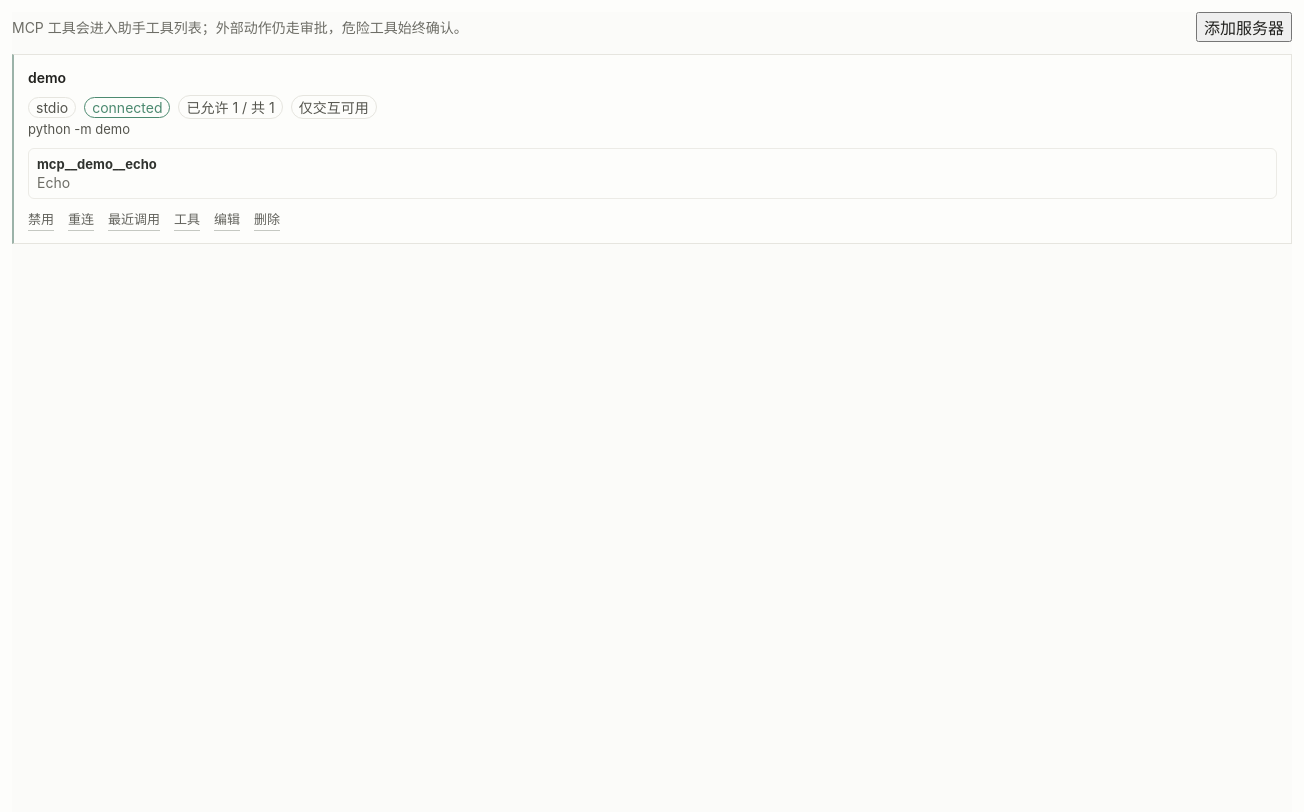
Test case: F1 编辑已有服务器：校验失败零请求 › stdio 缺 command：可见文案 + 不发请求
Click the button "编辑" at (227, 219), box left=214, top=207, right=240, bottom=231
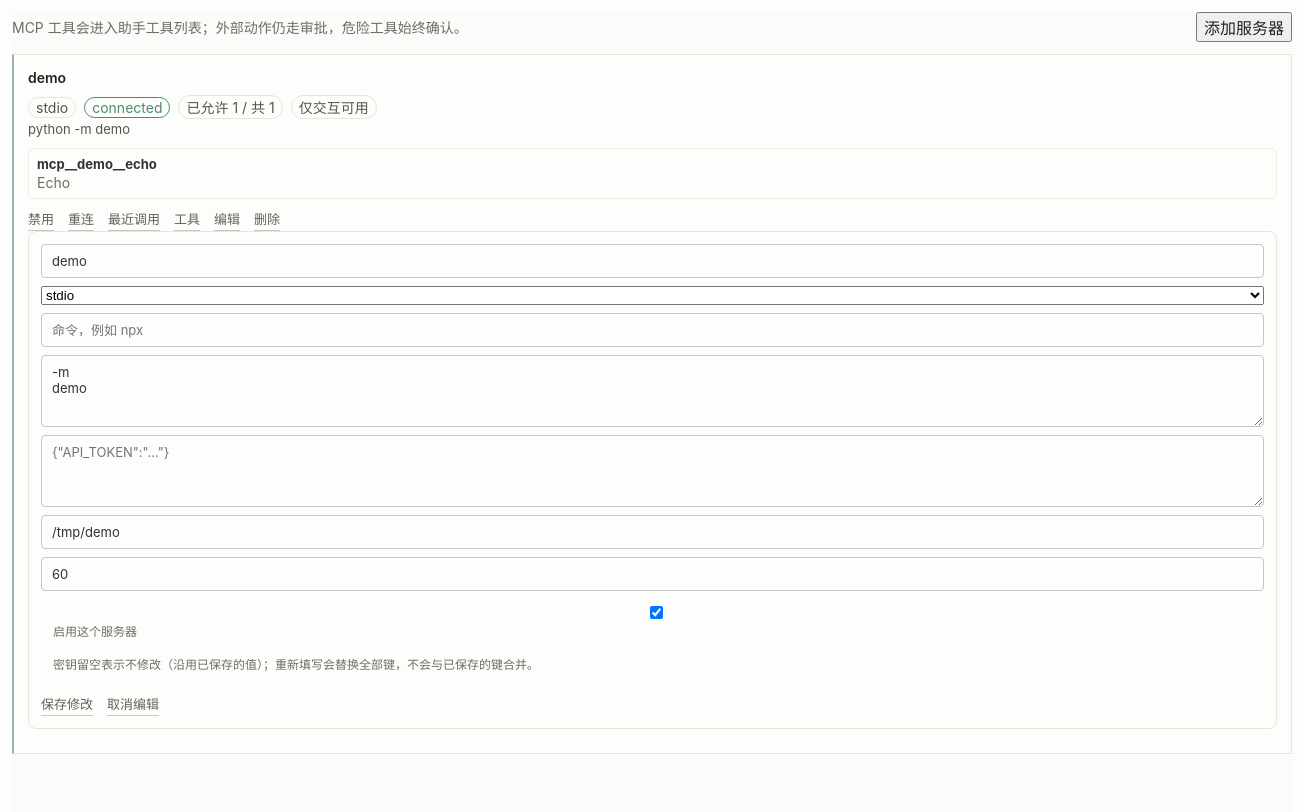
Click the button "保存修改" at (67, 704), box left=41, top=692, right=93, bottom=716
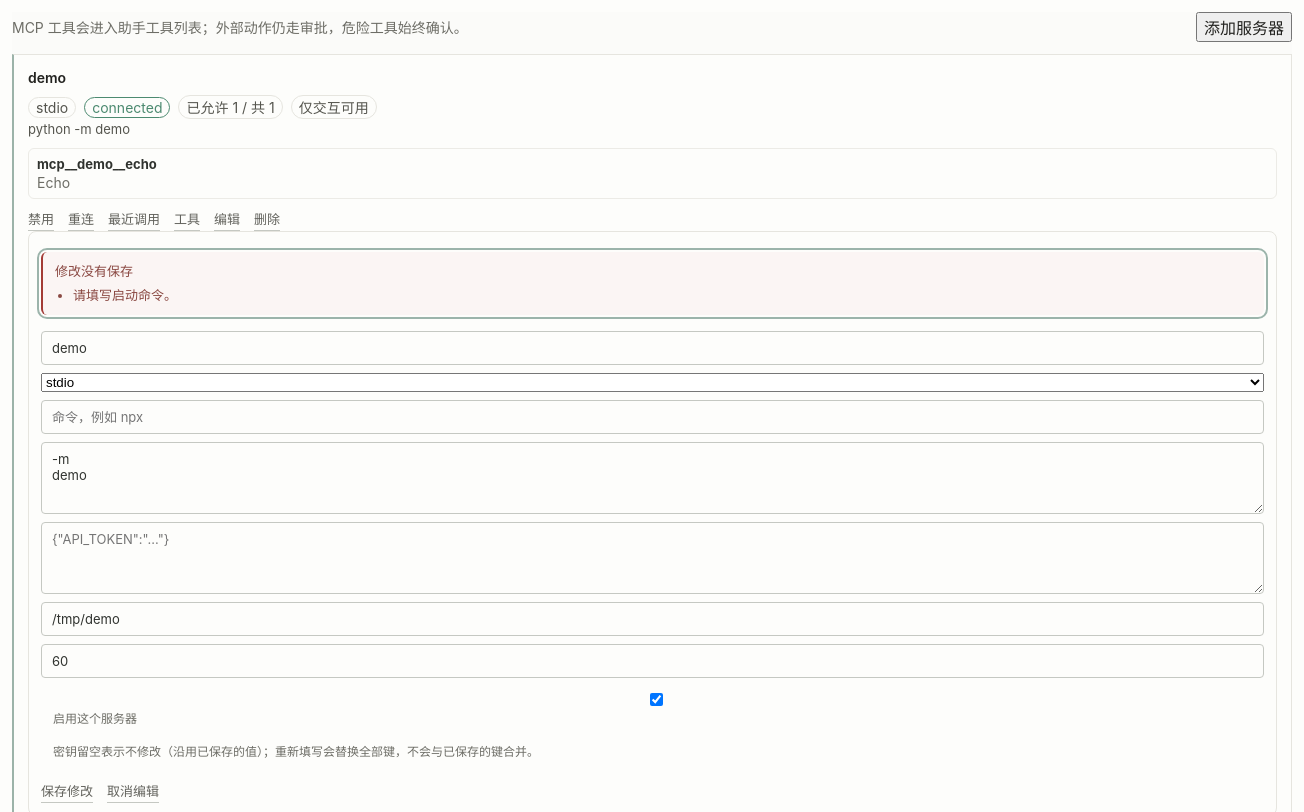
Expected: the text "请填写启动命令。" is shown, left=73, top=287, right=177, bottom=303
